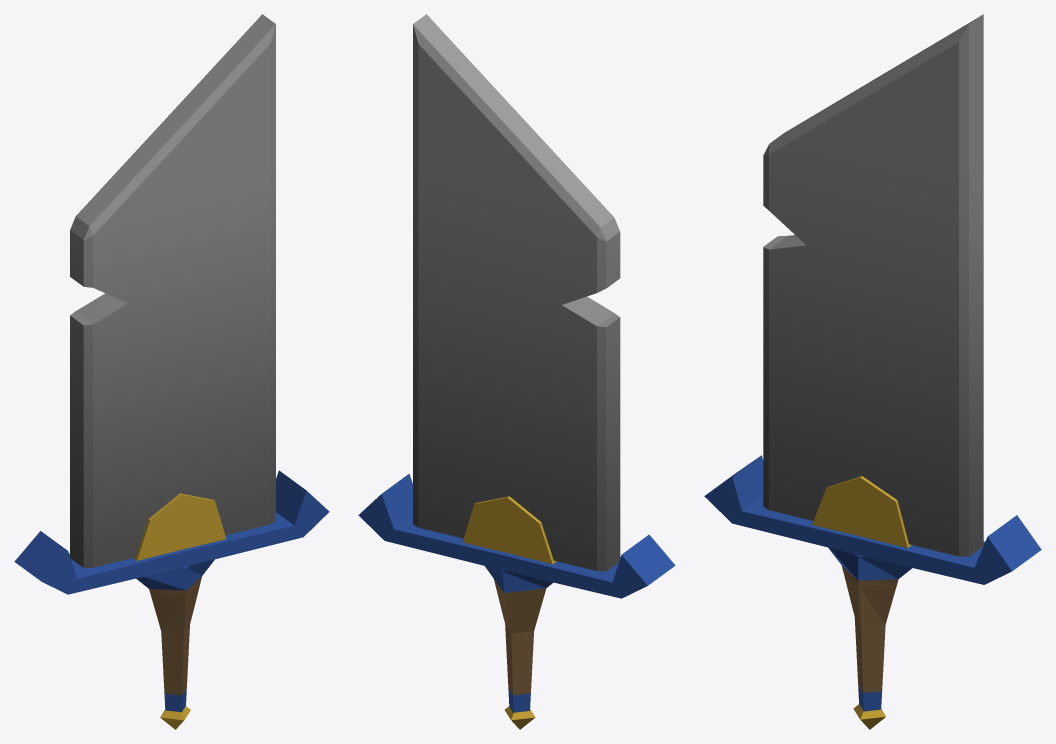
Rendered from Epee.FBX.
3 renders of one model, left to right at view 1: azimuth 30°, elevation 25°; view 2: azimuth 150°, elevation 25°; view 3: azimuth 330°, elevation 25°, orthographic. The views are drawn at different scales.
Visible parts, largest first — view 1: Epee; view 2: Epee; view 3: Epee.
Boxes of the visible parts, box(x1,y1,x2,y2) form: Epee: box(14, 14, 329, 729); Epee: box(358, 14, 675, 729); Epee: box(704, 14, 1041, 729).
Bounding box in the file's own units: 49.16 × 112 × 8.35.
